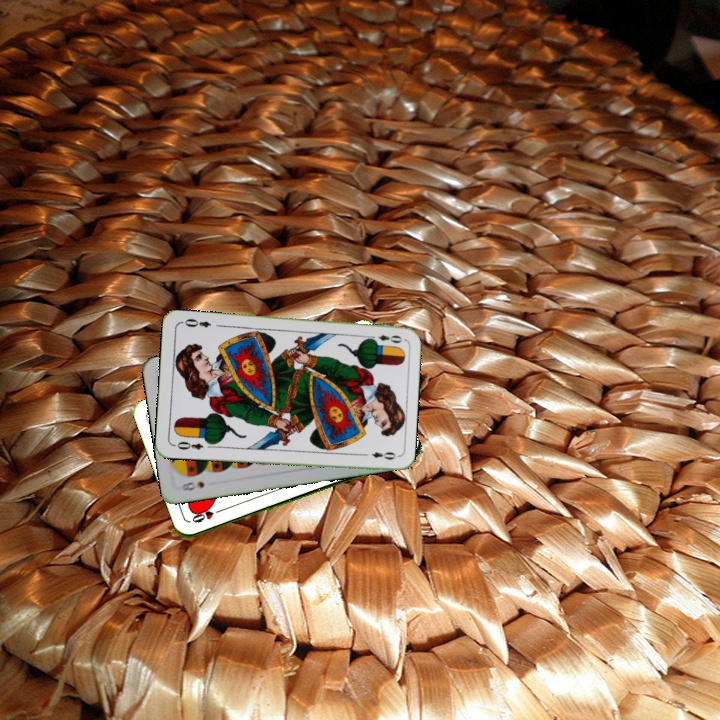EO: (365, 331, 405, 345), (170, 437, 206, 452)
HO: (188, 504, 226, 525)
S8: (178, 477, 207, 493)
